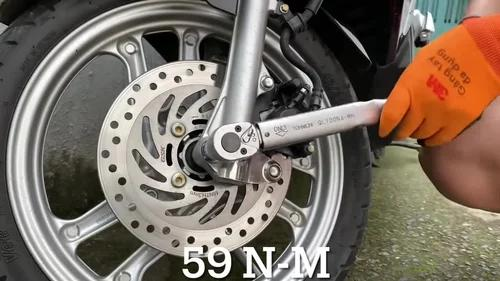Tool: (214, 122, 260, 161)
